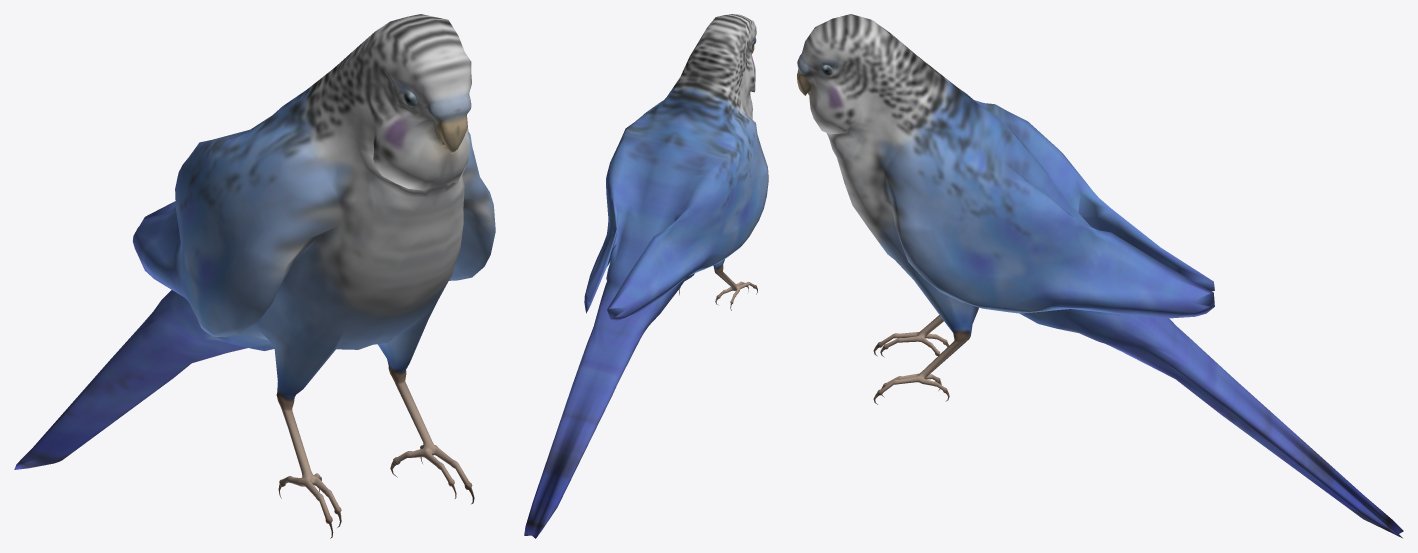
Rendered from Parakeet.fbx.
3 renders of one model, left to right at view 1: azimuth 30°, elevation 25°; view 2: azimuth 150°, elevation 25°; view 3: azimuth 270°, elevation 25°, orthographic. The views are drawn at different scales.
Visible parts, largest first — view 1: parakeet_F; view 2: parakeet_F; view 3: parakeet_F.
Part boxes in pixels (bbox=[...]): parakeet_F: bbox=[14, 14, 495, 538]; parakeet_F: bbox=[524, 14, 768, 538]; parakeet_F: bbox=[797, 14, 1403, 538].
Bounding box in the file's own units: 11.17 × 30.87 × 32.97.
Materials: 1 (1 with a texture image).
